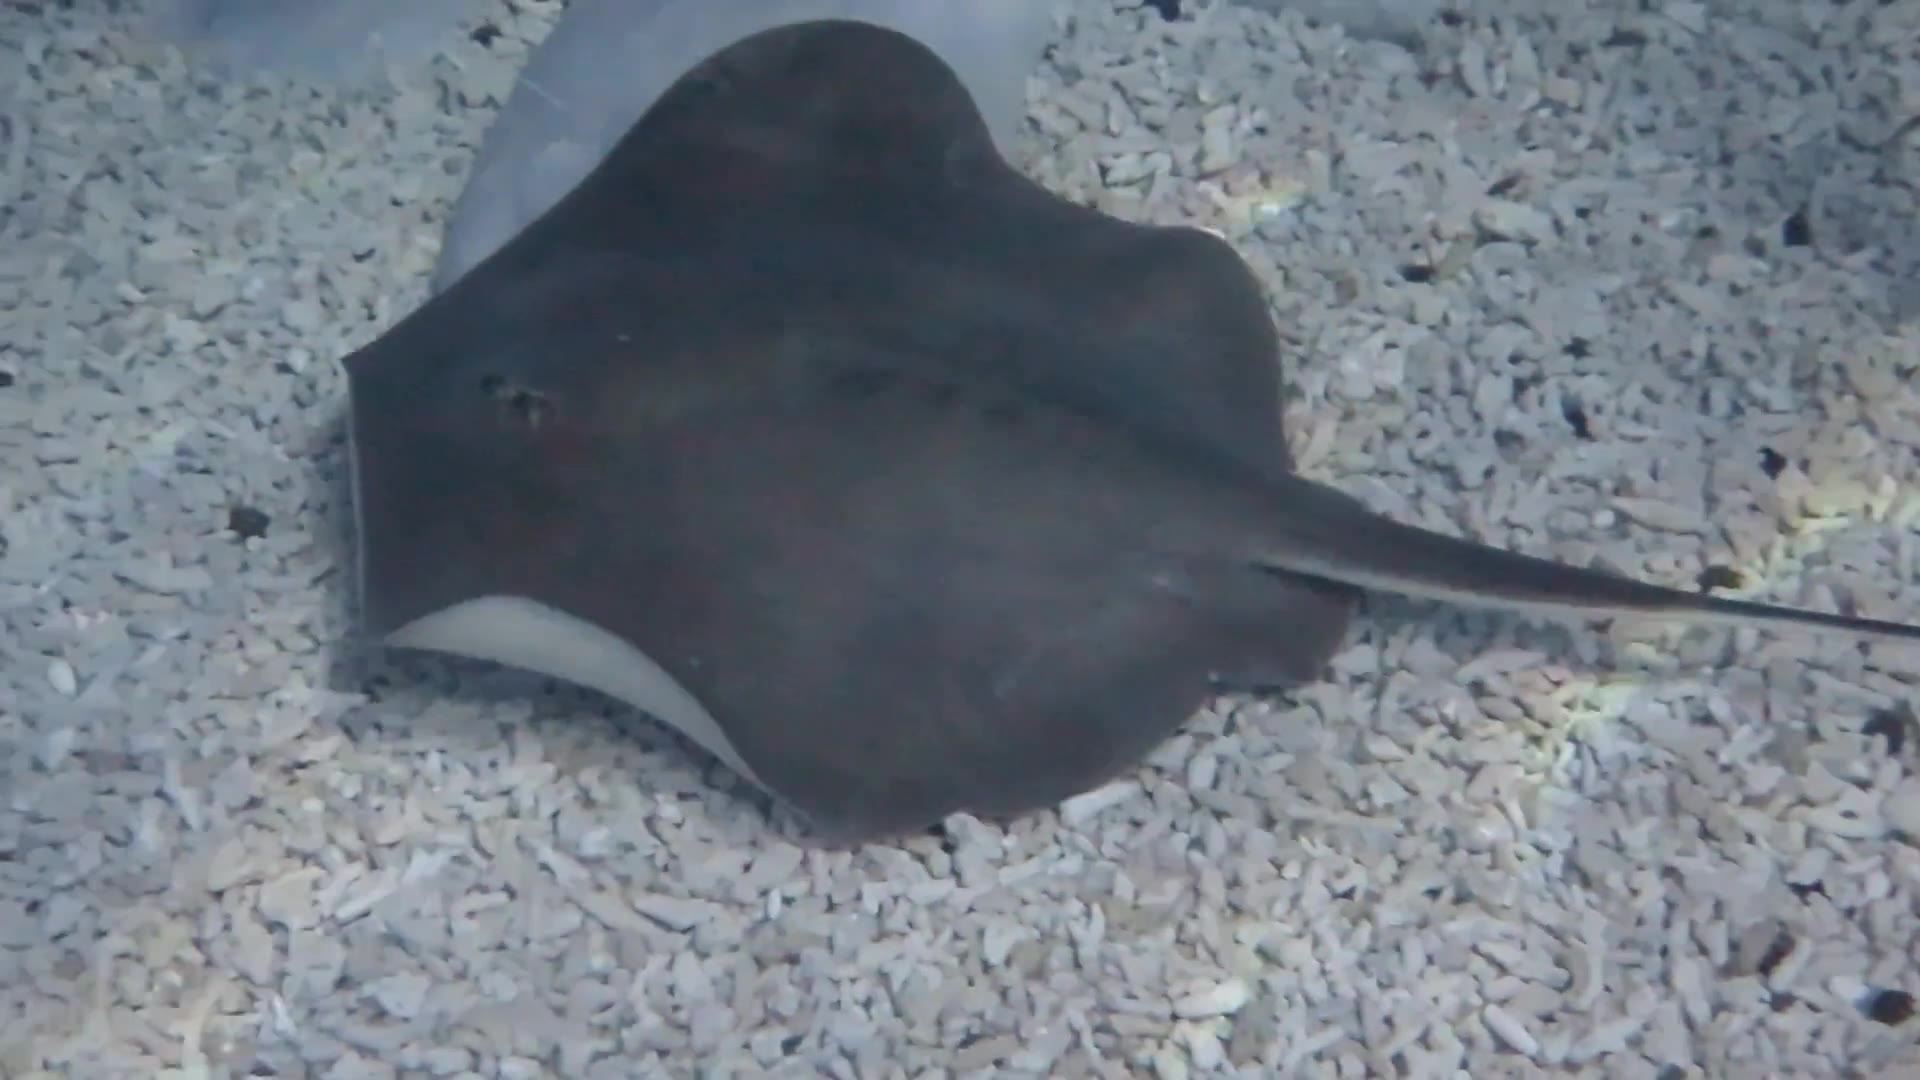Dasyatis bennetti: (251, 15, 1499, 856)
